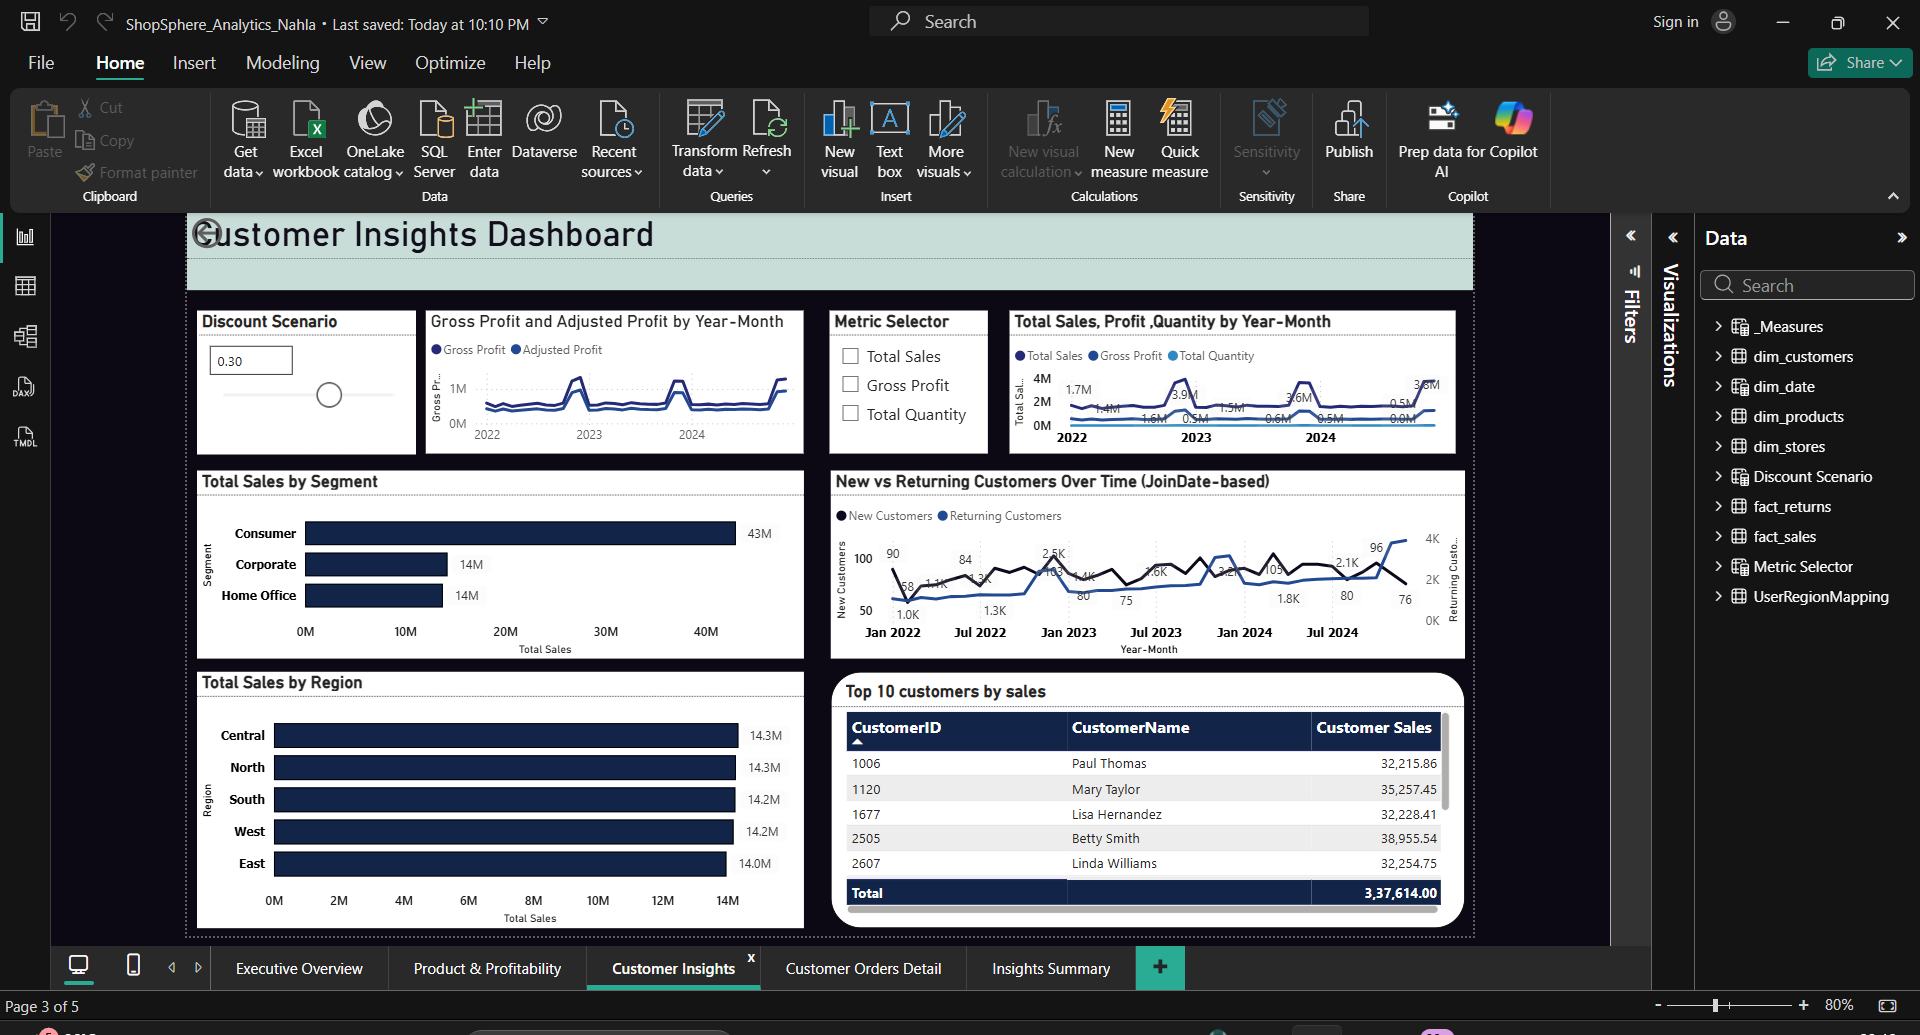

What the dashboard file says about the page in this screenshot:
{"tool":"powerbi","page":{"name":" Customer Insights","canvas":[1280,720],"ordinal":2},"visuals":[{"type":"textbox","title":"Customer Insights Dashboard","box":[0,0,1280,76.5],"z":0},{"type":"clusteredBarChart","fields":{"Y":["_Measures.Total Sales"],"Category":["dim_customers.Segment"]},"box":[10,256.2,603.8,187.5],"z":1000},{"type":"clusteredBarChart","fields":{"Y":["_Measures.Total Sales"],"Category":["dim_customers.Region"]},"box":[10,456.2,603.8,255],"z":2000},{"type":"lineChart","title":"New vs Returning Customers Over Time (JoinDate-based)","fields":{"Category":["dim_date.Year-Month"],"Y":["_Measures.New Customers"],"Y2":["_Measures.Returning Customers"]},"box":[641.2,256.2,631.2,187.5],"z":3000},{"type":"tableEx","title":"Top 10 customers by sales","fields":{"Values":["dim_customers.CustomerID","dim_customers.CustomerName","_Measures.Customer Sales"]},"box":[641.2,456.2,631.2,255],"z":4000},{"type":"actionButton","box":[0,0,100,40],"z":5000},{"type":"slicer","title":"Discount Scenario","fields":{"Values":["Discount Scenario.Discount Scenario"]},"box":[10,97.5,217.5,142.5],"z":6000},{"type":"lineChart","fields":{"Category":["dim_date.Year-Month"],"Y":["_Measures.Gross Profit","Discount Scenario.Adjusted Profit"]},"box":[237.5,97.5,376.2,142.5],"z":7000},{"type":"slicer","title":"Metric Selector","fields":{"Values":["Metric Selector.Metric Selector"]},"box":[640,97.5,157.5,142.5],"z":7001},{"type":"lineChart","title":"Total Sales, Profit ,Quantity by Year-Month","fields":{"Category":["dim_date.Year-Month"],"Y":["_Measures.Total Sales","_Measures.Gross Profit","_Measures.Total Quantity"]},"box":[818.8,97.5,443.8,142.5],"z":7002}]}

Visuals, with their boxes on the page's 1280x720 design canvas (x1, y1, x2, y2). These are canvas units, not pixel positions in the 1920x1035 screenshot, which may show the page scaled, cropped or inside an application window:
"Customer Insights Dashboard" textbox: locate(0, 0, 1280, 76)
clusteredBarChart - _Measures.Total Sales x dim_customers.Segment: locate(10, 256, 614, 444)
clusteredBarChart - _Measures.Total Sales x dim_customers.Region: locate(10, 456, 614, 711)
"New vs Returning Customers Over Time (JoinDate-based)" lineChart: locate(641, 256, 1272, 444)
"Top 10 customers by sales" tableEx: locate(641, 456, 1272, 711)
actionButton: locate(0, 0, 100, 40)
"Discount Scenario" slicer: locate(10, 98, 228, 240)
lineChart - dim_date.Year-Month x _Measures.Gross Profit: locate(238, 98, 614, 240)
"Metric Selector" slicer: locate(640, 98, 798, 240)
"Total Sales, Profit ,Quantity by Year-Month" lineChart: locate(819, 98, 1263, 240)
